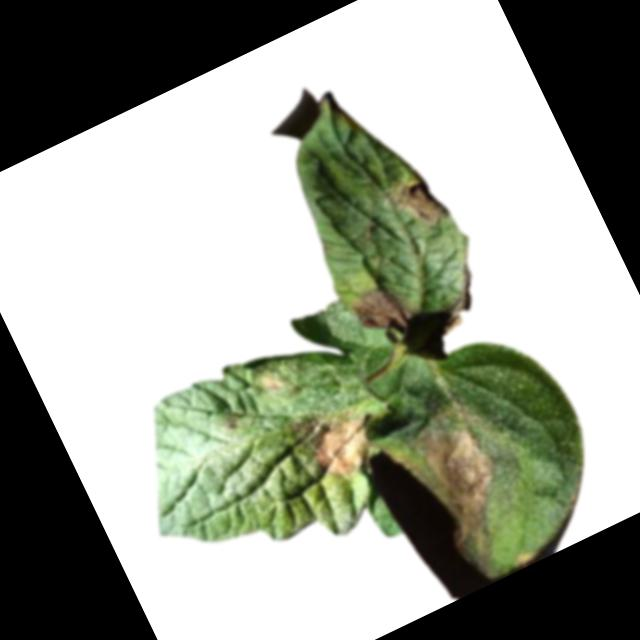Late_blight: (410, 408, 520, 543), (299, 399, 387, 488), (383, 167, 452, 239), (426, 262, 491, 333), (351, 279, 417, 347), (255, 368, 288, 400)
